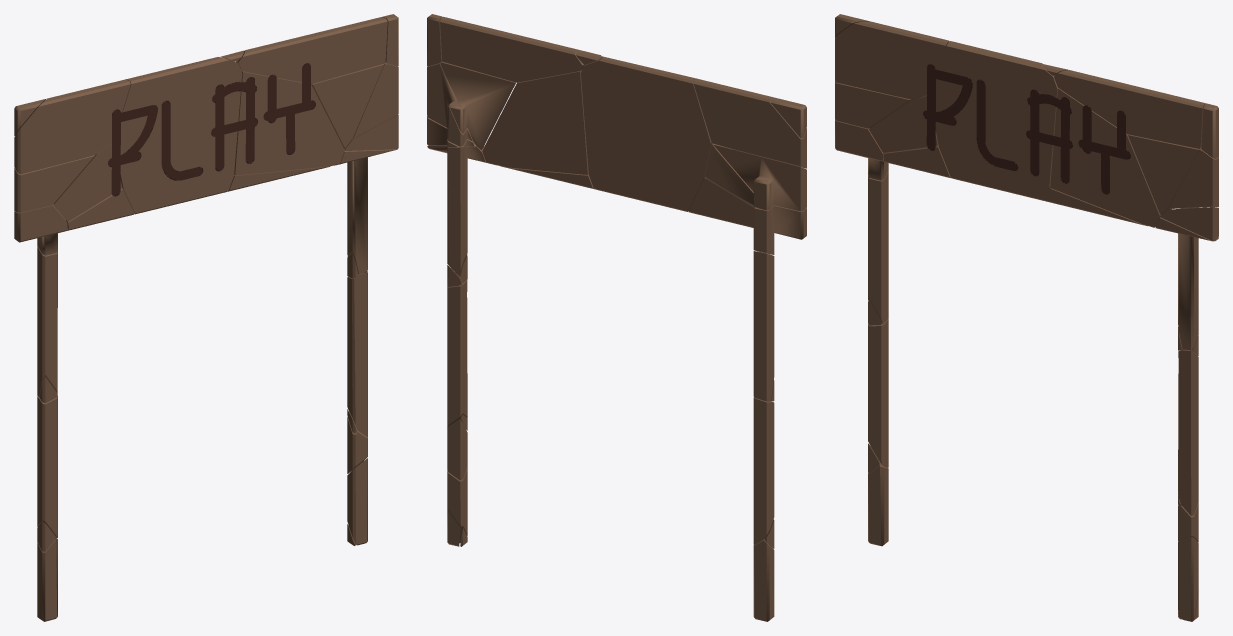
Rendered from ShatteredPlayTest.fbx.
The picture shows the model from 3 angles, left to right: view 1: azimuth 30°, elevation 25°; view 2: azimuth 150°, elevation 25°; view 3: azimuth 330°, elevation 25°; orthographic projection.
Parts seen in each view (by area): view 1: sign_play01.002_cell.040, sign_play01.002_cell.046, sign_play01.002_cell.019, sign_play01.002_cell.043, sign_play01.002_cell.025, sign_play01.002_cell.011, sign_play01.002_cell.038, sign_play01.002_cell.029, sign_play01.002_cell.026, sign_play01.002_cell.013, sign_play01.002_cell.024, sign_play01.002_cell.037 (+8 smaller); view 2: sign_play01.002_cell.040, sign_play01.002_cell.046, sign_play01.002_cell.019, sign_play01.002_cell.043, sign_play01.002_cell.011, sign_play01.002_cell.013, sign_play01.002_cell.038, sign_play01.002_cell.029, sign_play01.002_cell.026, sign_play01.002_cell.025, sign_play01.002_cell.037, sign_play01.002_cell.041 (+9 smaller); view 3: sign_play01.002_cell.040, sign_play01.002_cell.046, sign_play01.002_cell.019, sign_play01.002_cell.043, sign_play01.002_cell.025, sign_play01.002_cell.011, sign_play01.002_cell.038, sign_play01.002_cell.029, sign_play01.002_cell.026, sign_play01.002_cell.024, sign_play01.002_cell.013, sign_play01.002_cell.012 (+8 smaller).
Boxes of the visible parts, box(x1,y1,x2,y2) form: sign_play01.002_cell.040: box(108, 57, 257, 214); sign_play01.002_cell.046: box(234, 63, 344, 175); sign_play01.002_cell.019: box(14, 79, 130, 174); sign_play01.002_cell.043: box(236, 17, 387, 83); sign_play01.002_cell.025: box(347, 272, 367, 436); sign_play01.002_cell.011: box(311, 64, 383, 148); sign_play01.002_cell.038: box(37, 246, 57, 397); sign_play01.002_cell.029: box(37, 395, 57, 538); sign_play01.002_cell.026: box(338, 149, 397, 274); sign_play01.002_cell.013: box(14, 155, 94, 212); sign_play01.002_cell.024: box(53, 142, 122, 221); sign_play01.002_cell.037: box(14, 204, 67, 255); sign_play01.002_cell.040: box(581, 56, 712, 211); sign_play01.002_cell.046: box(482, 70, 588, 174); sign_play01.002_cell.019: box(693, 78, 806, 168); sign_play01.002_cell.043: box(440, 16, 583, 82); sign_play01.002_cell.011: box(440, 62, 515, 150); sign_play01.002_cell.013: box(713, 144, 806, 211); sign_play01.002_cell.038: box(753, 251, 774, 401); sign_play01.002_cell.029: box(753, 397, 774, 544); sign_play01.002_cell.026: box(427, 145, 486, 276); sign_play01.002_cell.025: box(447, 273, 467, 428); sign_play01.002_cell.037: box(753, 205, 806, 254); sign_play01.002_cell.041: box(688, 178, 754, 227); sign_play01.002_cell.040: box(923, 41, 1072, 200); sign_play01.002_cell.046: box(1050, 88, 1160, 227); sign_play01.002_cell.019: box(835, 21, 949, 99); sign_play01.002_cell.043: box(1054, 70, 1205, 148); sign_play01.002_cell.025: box(1178, 349, 1198, 515); sign_play01.002_cell.011: box(1128, 134, 1201, 214); sign_play01.002_cell.038: box(868, 171, 888, 323); sign_play01.002_cell.029: box(868, 319, 888, 467); sign_play01.002_cell.026: box(1155, 217, 1218, 349); sign_play01.002_cell.024: box(869, 95, 937, 152); sign_play01.002_cell.013: box(835, 80, 926, 128); sign_play01.002_cell.012: box(1168, 149, 1218, 208).
Size of the model in its own units: 92.94 by 122 by 4.88.
